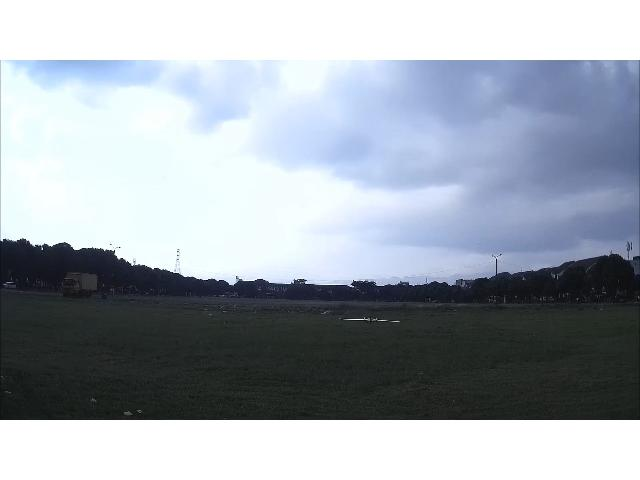Anti-Drone: (340, 317, 400, 323)
